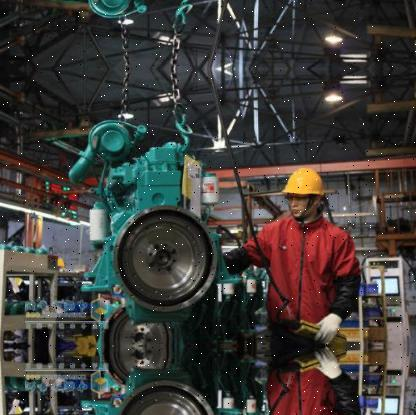helmet: (281, 161, 331, 224)
